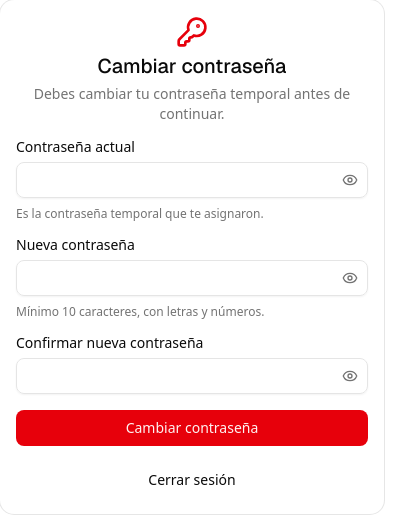
it: ChangePasswordForm (RN-014, FR-009, FR-010) › muestra los errores 422 del backend en su campo
Step 1. Type "Equivocada1" into the password field labelled "Contraseña actual" → (192, 180), box [16,162,368,198]
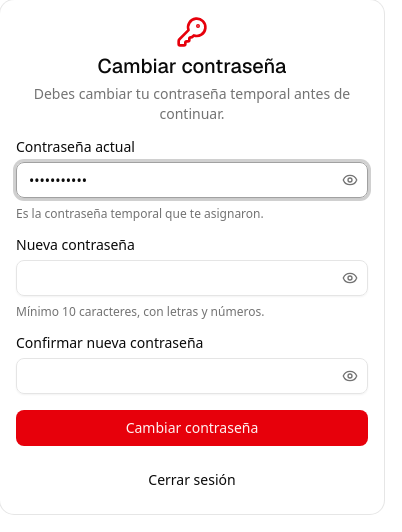
Step 2. Type "NuevaClave2026" into the password field labelled "Nueva contraseña" → (192, 278), box [16,260,368,296]
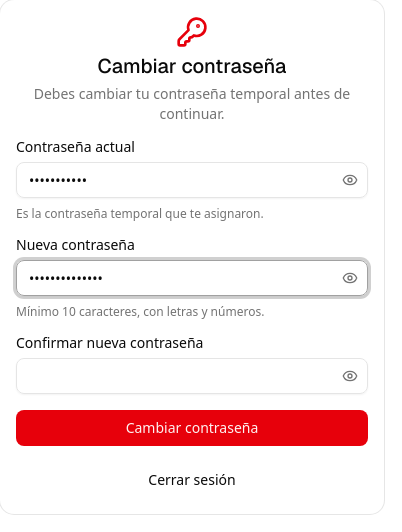
Step 3. Type "NuevaClave2026" into the password field labelled "Confirmar nueva contraseña" → (192, 376), box [16,358,368,394]
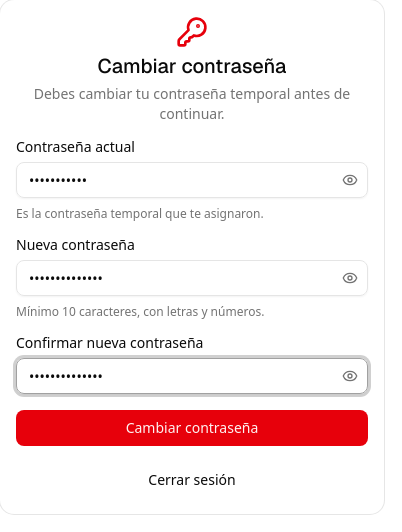
Step 4. Click the button "Cambiar contraseña" → (192, 428), box [16,410,368,446]
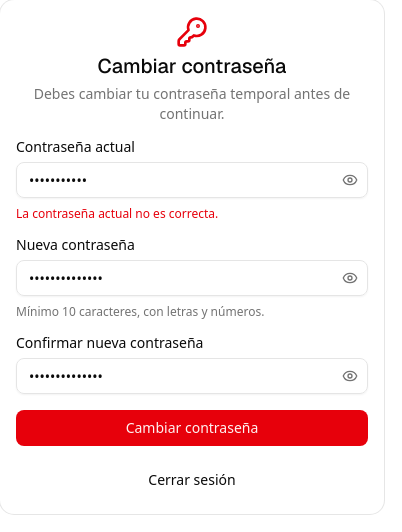
expect the text "La contraseña actual no es correcta." is shown: met, box [16,205,218,222]
